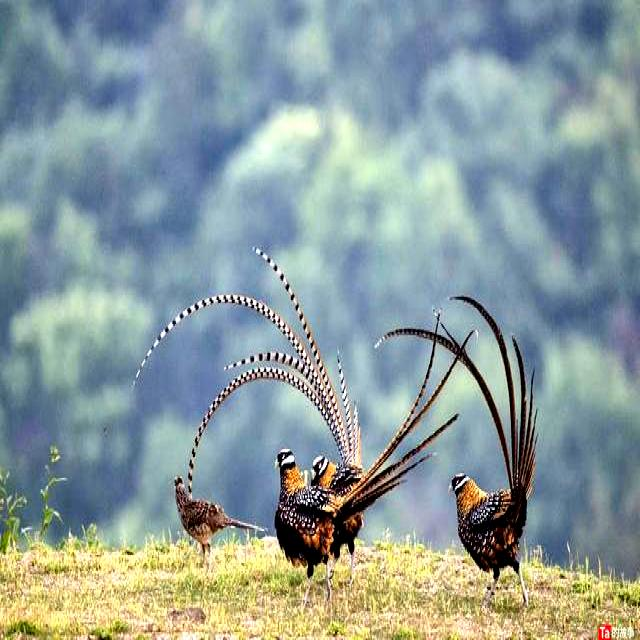Reeves-s Pheasant: (132, 246, 362, 498), (373, 295, 539, 499), (342, 308, 479, 513)
